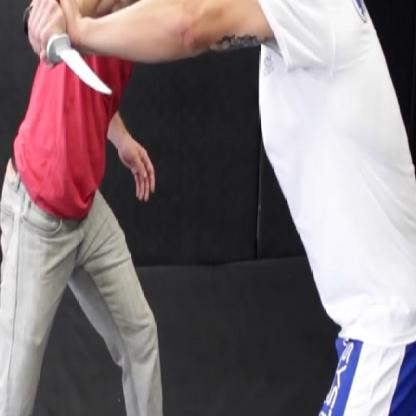knife: (18, 0, 119, 105)
